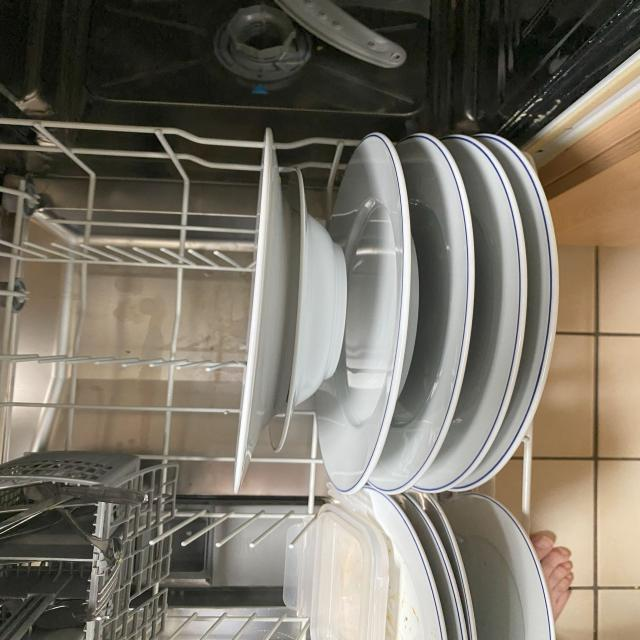clutery_bin: (12, 479, 88, 628)
empty_slot: (15, 133, 238, 439), (154, 508, 308, 636)
